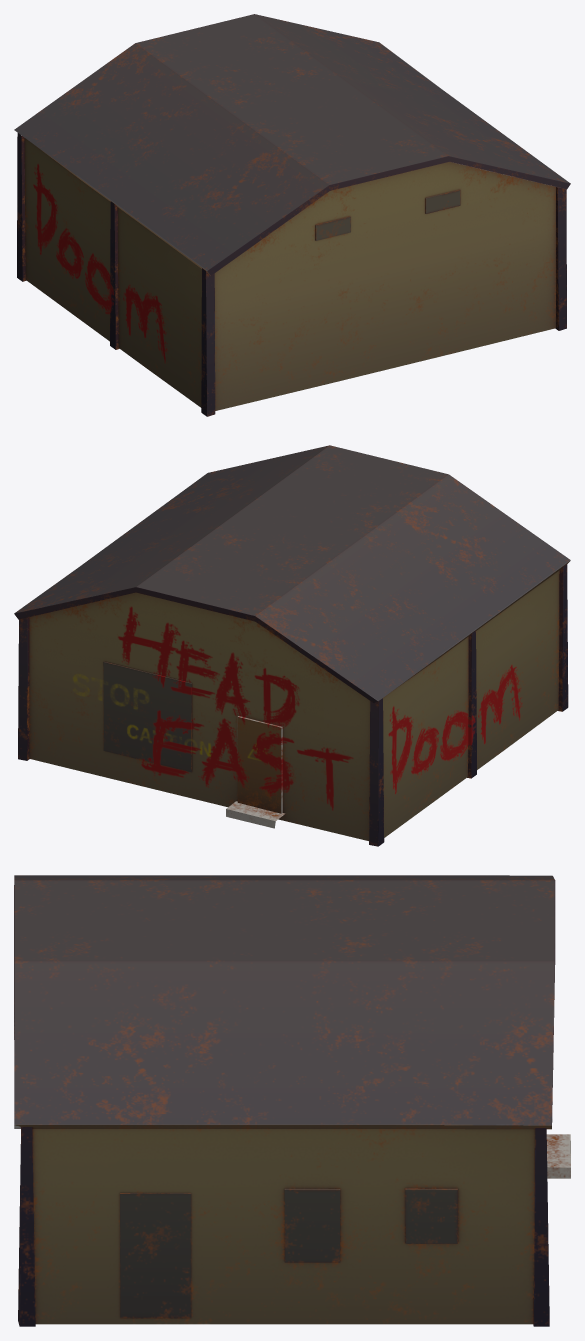
Rendered from Build6.glb.
3 renders of one model, top to bottom at view 1: azimuth 30°, elevation 25°; view 2: azimuth 150°, elevation 25°; view 3: azimuth 270°, elevation 25°, orthographic. The views are drawn at different scales.
Visible parts, largest first — view 1: Build2; view 2: Build2; view 3: Build2.
Part boxes in pixels (box(x1,y1,x2,y2)): Build2: box(14, 14, 570, 416); Build2: box(14, 445, 570, 846); Build2: box(14, 875, 570, 1326).
Size of the model in its own units: 14.64 by 7.79 by 13.88.
Materials: 1 (1 with a texture image).
